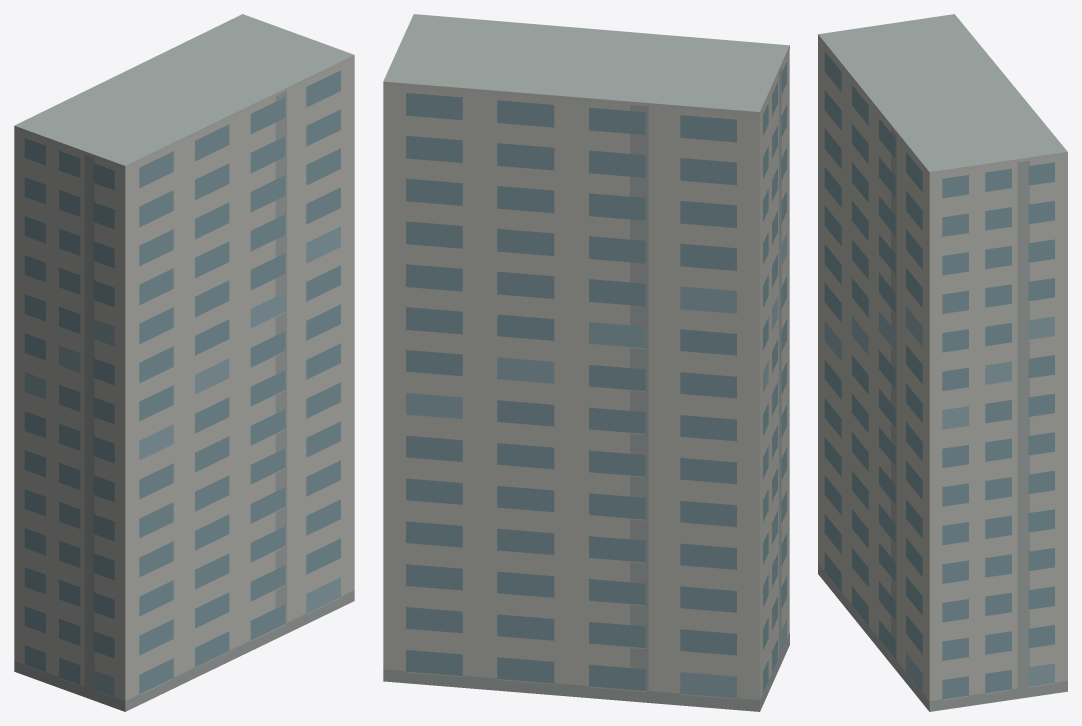
File: residential-f9e2a272-2c6f-4ba5-9352-7881217eca14.glb
3 views of the same model, side by side, from view 1: azimuth 30°, elevation 25°; view 2: azimuth 150°, elevation 25°; view 3: azimuth 270°, elevation 25° (orthographic). The views are drawn at different scales.
Parts seen in each view (by area): view 1: residential-f9e2a272-2c6f-4ba5-9352-7881217eca14.tmp; view 2: residential-f9e2a272-2c6f-4ba5-9352-7881217eca14.tmp; view 3: residential-f9e2a272-2c6f-4ba5-9352-7881217eca14.tmp.
Part boxes in pixels (<box>): residential-f9e2a272-2c6f-4ba5-9352-7881217eca14.tmp: <box>14,14,354,711</box>; residential-f9e2a272-2c6f-4ba5-9352-7881217eca14.tmp: <box>383,14,789,711</box>; residential-f9e2a272-2c6f-4ba5-9352-7881217eca14.tmp: <box>818,14,1067,711</box>.
Bounding box in the file's own units: 26.4 × 42 × 17.62.
